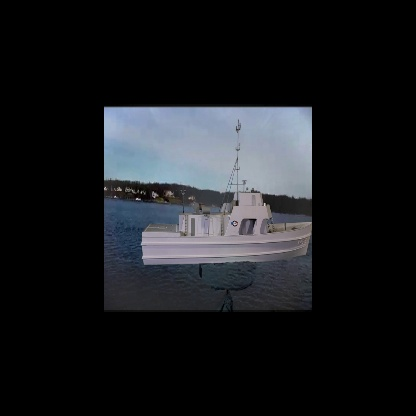YP689: (140, 120, 312, 264)
